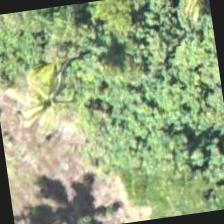Kelapa_Sawit: (3, 59, 105, 161), (78, 0, 181, 98)
